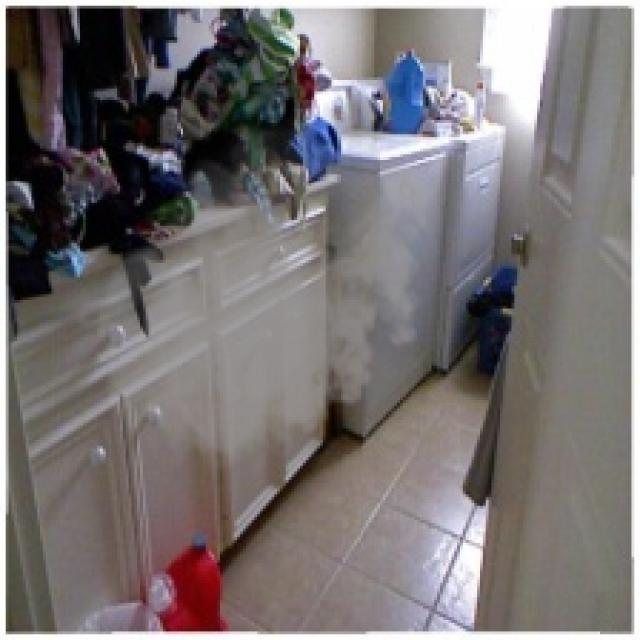smoke: (71, 106, 440, 483)
